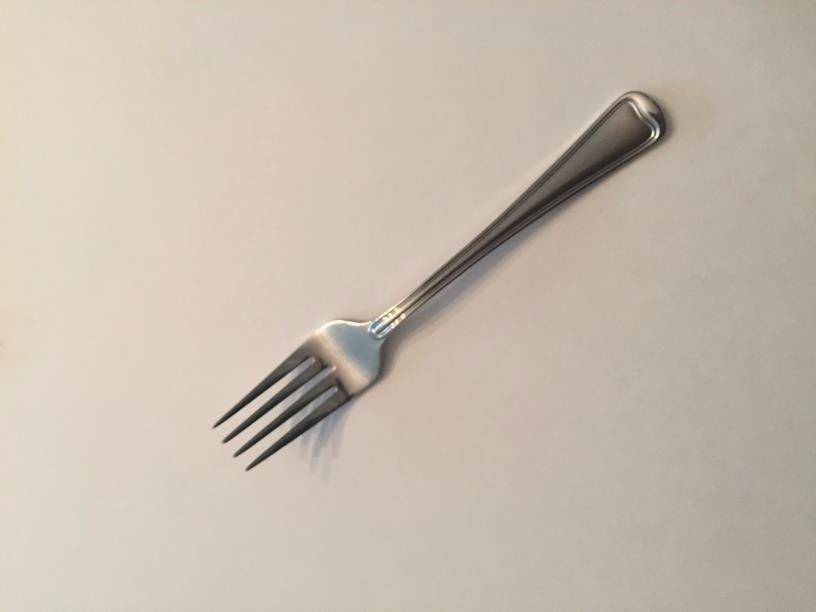fork: (195, 44, 741, 562)
